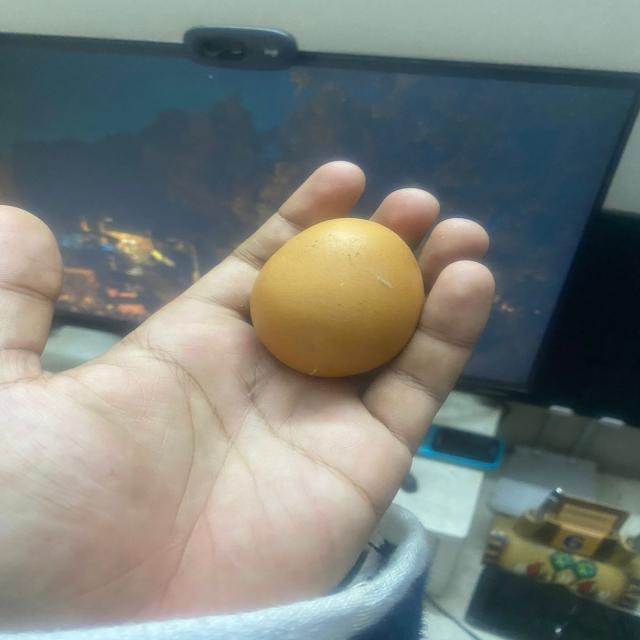egg: (242, 205, 434, 385)
